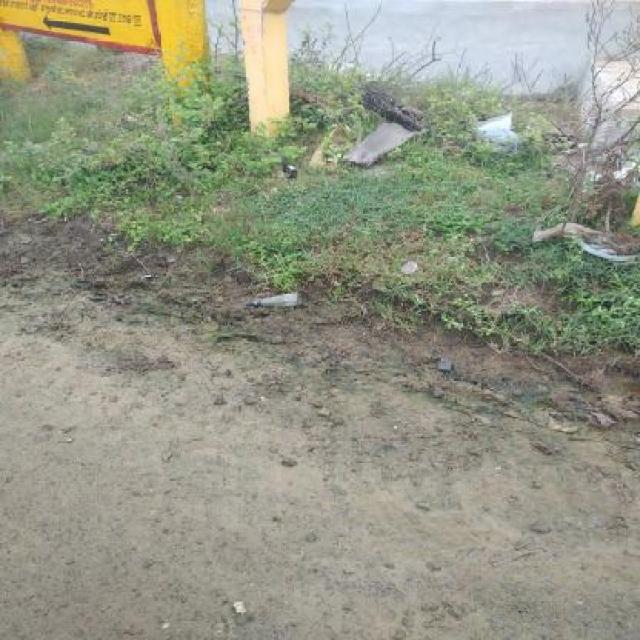garbage: (306, 85, 549, 178), (225, 295, 321, 322)
